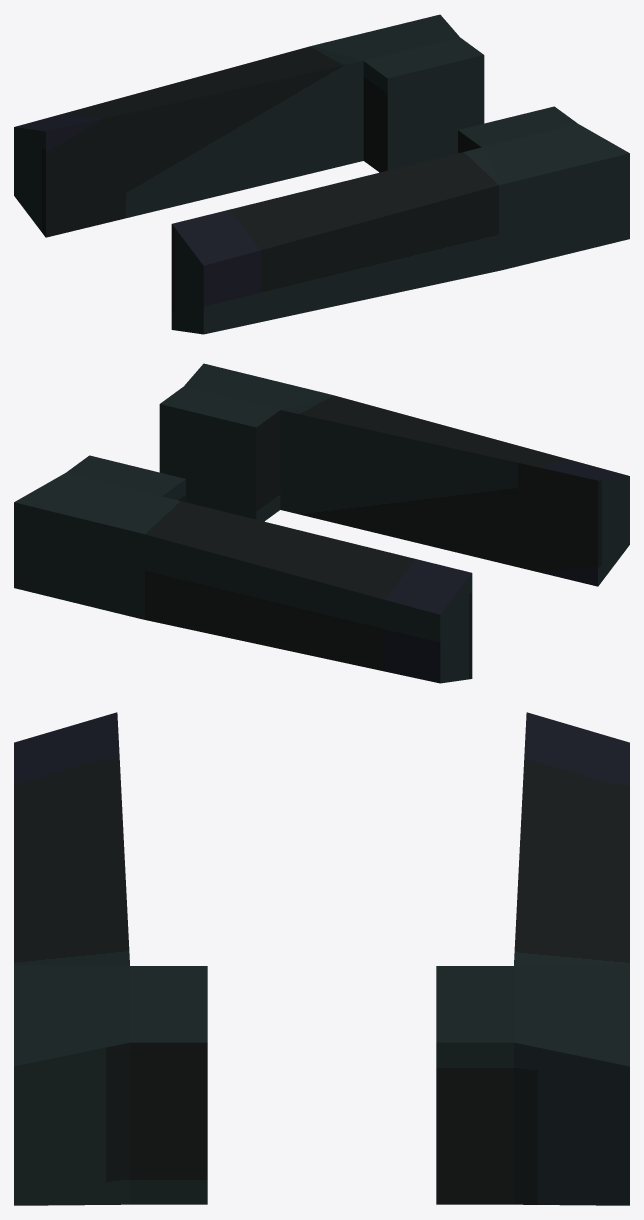
File: gate_handle.glb
3 views of the same model, one above another, from view 1: azimuth 30°, elevation 25°; view 2: azimuth 150°, elevation 25°; view 3: azimuth 270°, elevation 25° (orthographic). The views are drawn at different scales.
Visible parts, largest first — view 1: gate_handle; view 2: gate_handle; view 3: gate_handle.
Part boxes in pixels (left/top/right/bottom): gate_handle: left=14, top=14, right=629, bottom=334; gate_handle: left=14, top=363, right=629, bottom=683; gate_handle: left=14, top=712, right=629, bottom=1205.
Bounding box in the file's own units: 0.1371 × 0.0326 × 0.1056.
Materials: 1 (1 with a texture image).
